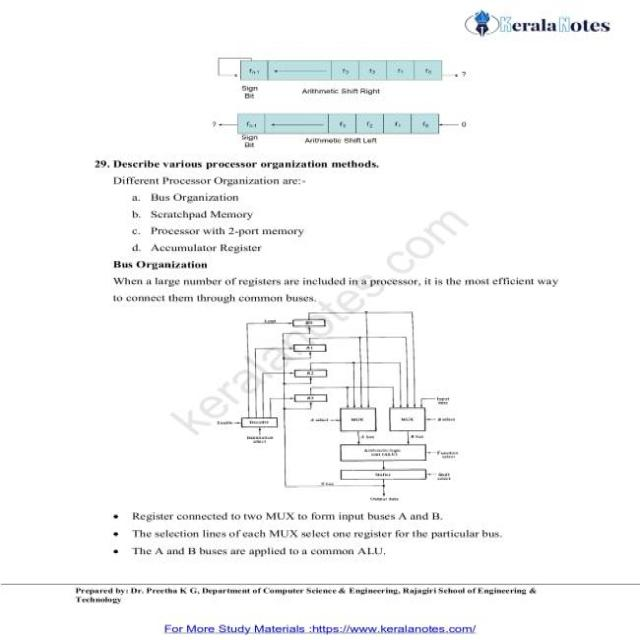Figure Detection - v3 Dataset Version2: (207, 304, 474, 506), (204, 44, 472, 104), (204, 102, 477, 155)
